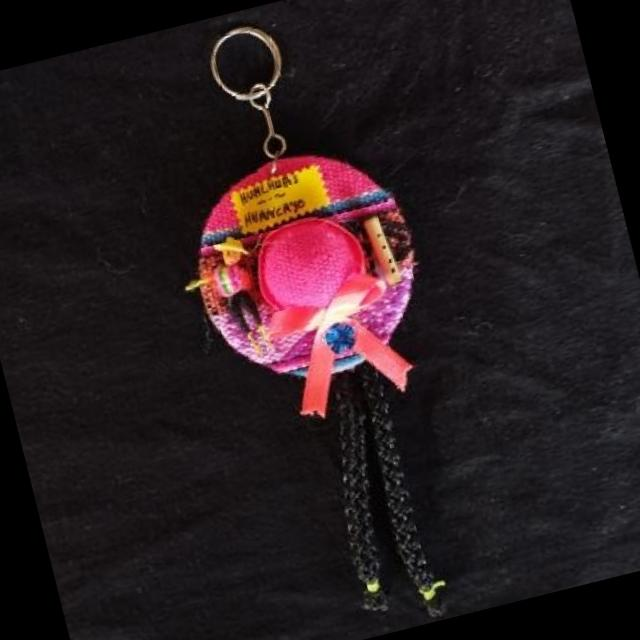Llavero: (161, 130, 450, 441)
